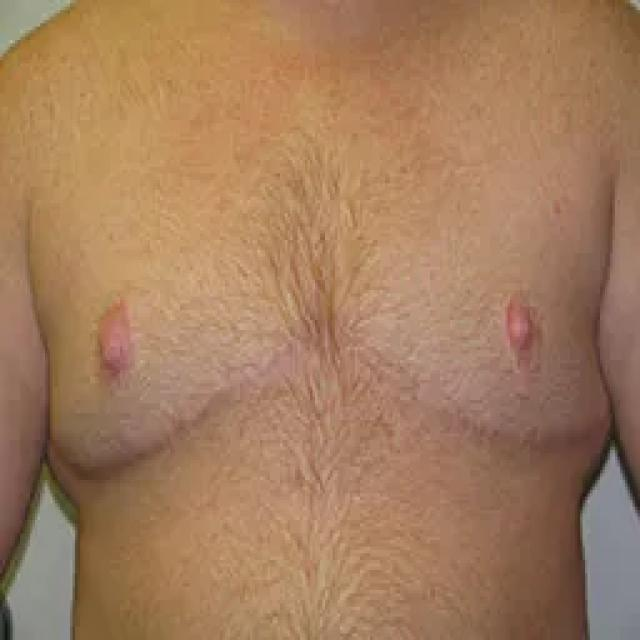Seno herido: (37, 241, 301, 501), (352, 245, 619, 478)
